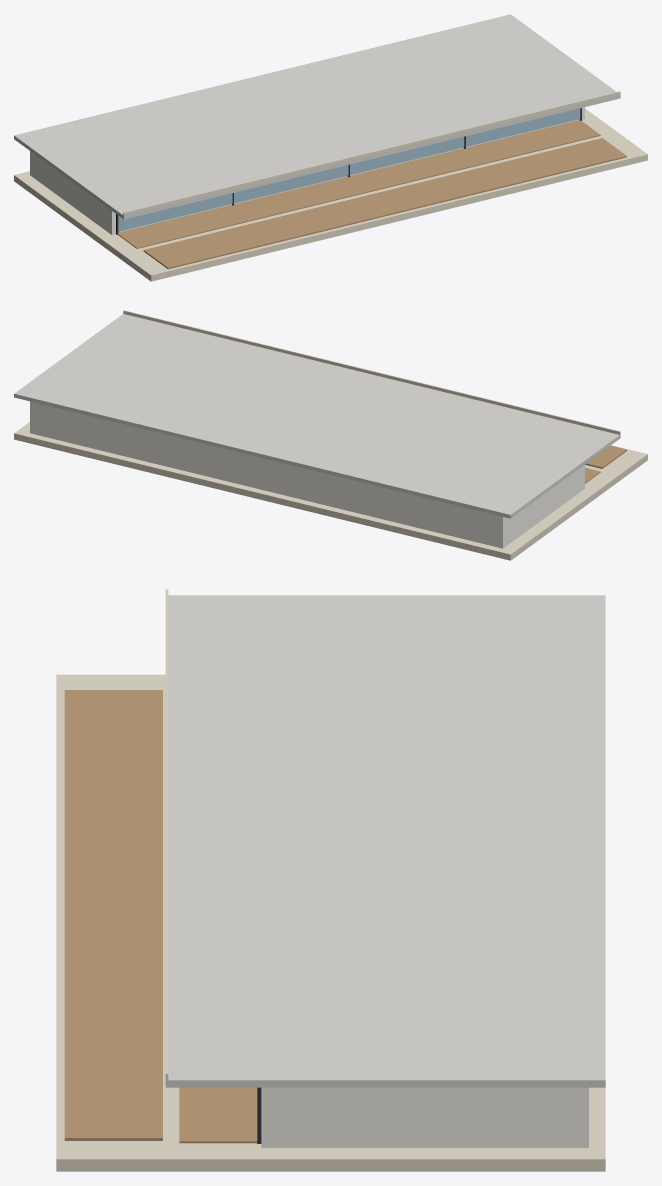
The model's file is E5-7_spa.fbx.
3 renders of one model, top to bottom at view 1: azimuth 30°, elevation 25°; view 2: azimuth 150°, elevation 25°; view 3: azimuth 270°, elevation 25°, orthographic. The views are drawn at different scales.
Parts seen in each view (by area): view 1: E5-7_spa; view 2: E5-7_spa; view 3: E5-7_spa.
Boxes of the visible parts, box(x1,y1,x2,y2) form: E5-7_spa: box(14, 14, 647, 281); E5-7_spa: box(14, 310, 647, 560); E5-7_spa: box(56, 589, 605, 1171).
Size of the model in its own units: 42 by 3.95 by 20.1.
